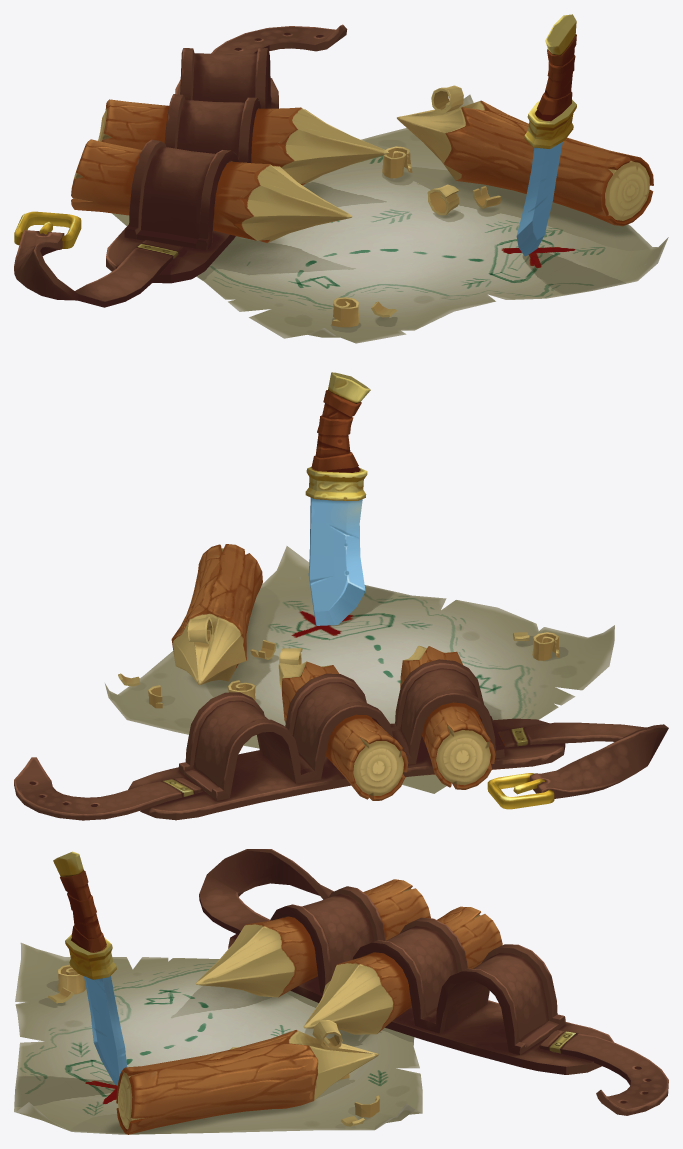
The model's file is wooden_outline.glb.
The picture shows the model from 3 angles, top to bottom: view 1: azimuth 30°, elevation 25°; view 2: azimuth 150°, elevation 25°; view 3: azimuth 270°, elevation 25°; orthographic projection. The views are drawn at different scales.
Parts seen in each view (by area): view 1: Object_2; view 2: Object_2; view 3: Object_2.
Boxes of the visible parts, left/top/right/bottom form: Object_2: left=14, top=14, right=668, bottom=343; Object_2: left=14, top=372, right=668, bottom=820; Object_2: left=14, top=849, right=668, bottom=1134.
Bounding box in the file's own units: 16.28 × 7.13 × 17.42.
1 material, 1 textured.
